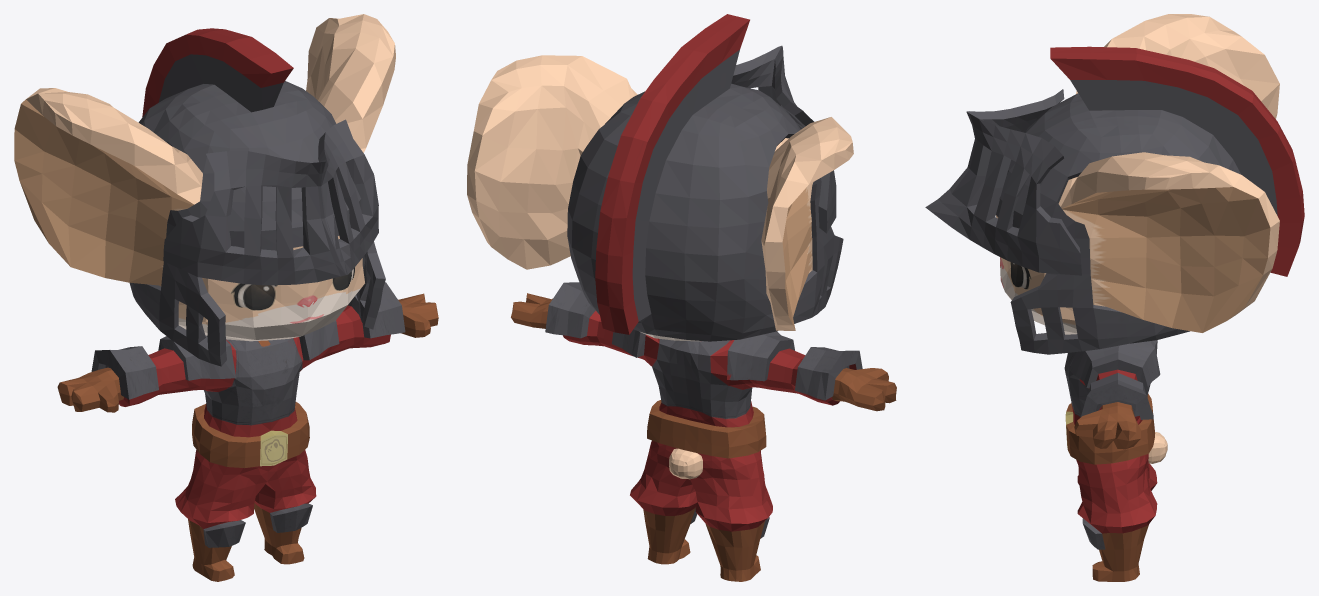
File: Hamsik.fbx
3 views of the same model, side by side, from view 1: azimuth 30°, elevation 25°; view 2: azimuth 150°, elevation 25°; view 3: azimuth 270°, elevation 25° (orthographic). The views are drawn at different scales.
Parts seen in each view (by area): view 1: Hamsik; view 2: Hamsik; view 3: Hamsik.
Part boxes in pixels (x1=…): Hamsik: x1=14, y1=14, x2=438, y2=581; Hamsik: x1=467, y1=14, x2=896, y2=581; Hamsik: x1=925, y1=14, x2=1304, y2=581.
Size of the model in its own units: 626 by 843 by 573.
